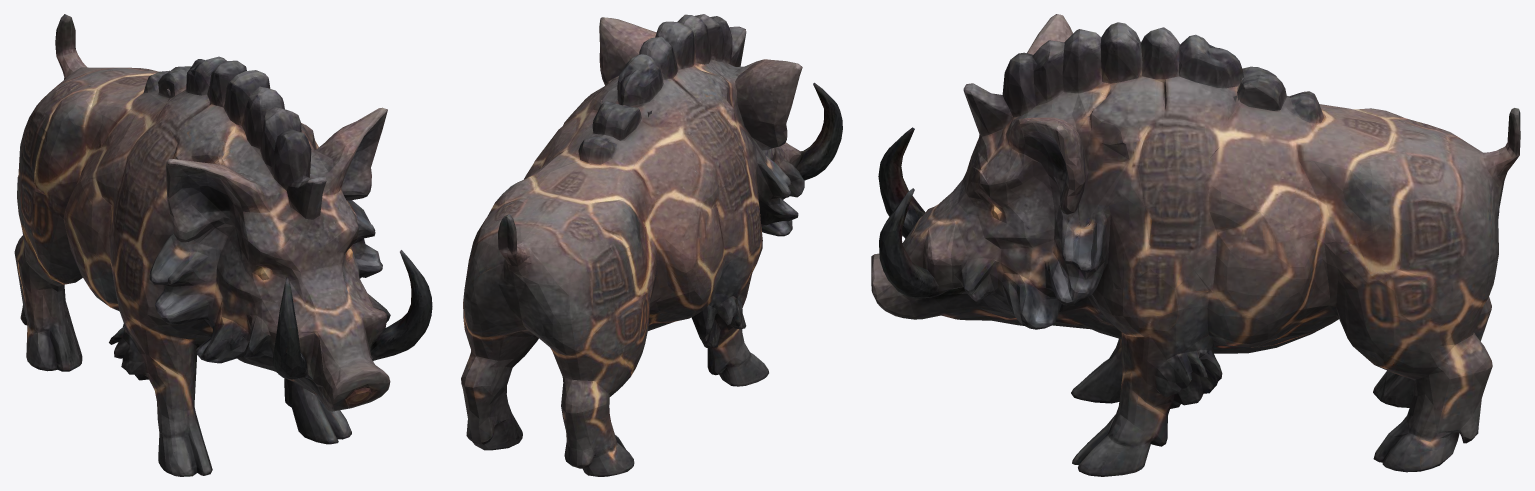
File: meteorBoar.glb
The picture shows the model from 3 angles, left to right: view 1: azimuth 30°, elevation 25°; view 2: azimuth 150°, elevation 25°; view 3: azimuth 270°, elevation 25°; orthographic projection. The views are drawn at different scales.
Parts seen in each view (by area): view 1: world; view 2: world; view 3: world.
Boxes of the visible parts, box(x1,y1,x2,y2) form: world: box(14, 14, 432, 476); world: box(461, 14, 842, 476); world: box(871, 14, 1520, 476).
Size of the model in its own units: 0.4276 by 0.6847 by 0.9988.
Materials: 1 (1 with a texture image).
